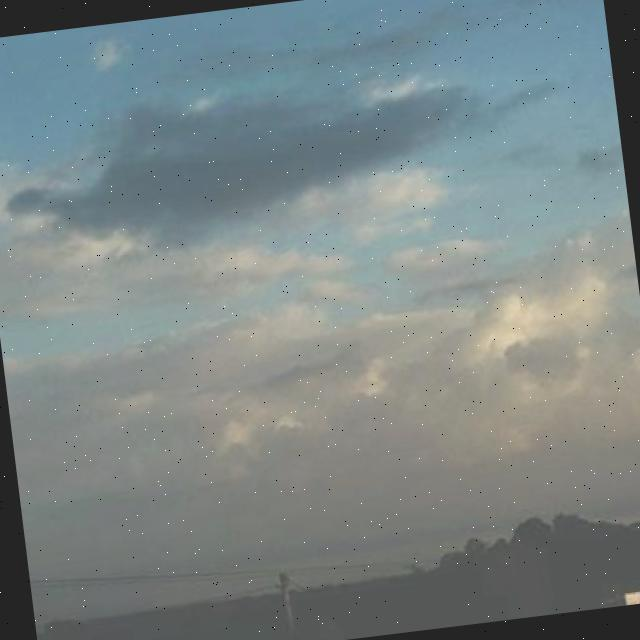Sc: (1, 1, 640, 512)
